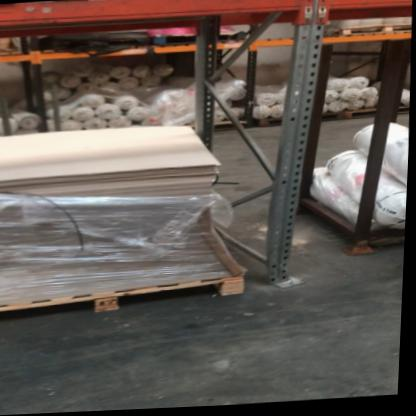vertical_damage: (256, 261, 308, 299)
